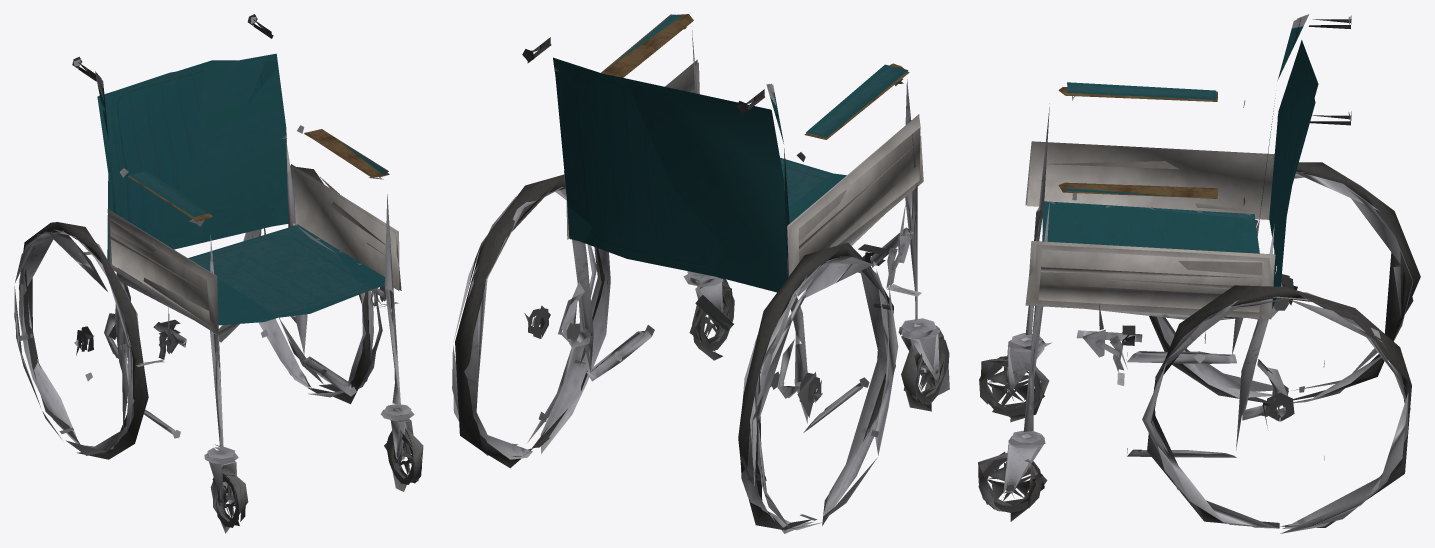
Rendered from wheelchair.glb.
The picture shows the model from 3 angles, left to right: view 1: azimuth 30°, elevation 25°; view 2: azimuth 150°, elevation 25°; view 3: azimuth 270°, elevation 25°; orthographic projection. The views are drawn at different scales.
Parts seen in each view (by area): view 1: wheelchair_01; view 2: wheelchair_01; view 3: wheelchair_01.
Boxes of the visible parts, x1,y1,x2,y2 form: wheelchair_01: (14, 14, 423, 533); wheelchair_01: (452, 14, 949, 533); wheelchair_01: (978, 14, 1420, 533).
Bounding box in the file's own units: 0.8239 × 1.11 × 1.08.
Materials: 1 (1 with a texture image).
